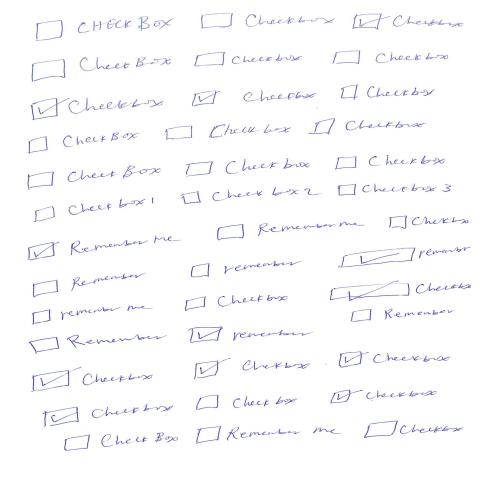Check Box: (28, 236, 180, 262), (31, 56, 174, 83), (35, 17, 175, 43), (27, 166, 163, 191), (34, 198, 156, 225), (32, 367, 154, 394), (32, 98, 166, 121), (44, 405, 176, 428), (217, 222, 365, 242), (32, 273, 149, 298), (28, 335, 167, 355), (196, 426, 342, 445), (28, 132, 139, 155), (181, 188, 323, 205), (185, 159, 311, 178), (33, 306, 152, 326), (194, 360, 309, 380), (201, 13, 336, 30), (192, 90, 317, 108), (64, 433, 180, 452), (166, 124, 291, 141), (191, 260, 302, 279), (189, 327, 313, 344), (314, 118, 428, 136), (338, 352, 451, 369), (365, 421, 466, 440), (353, 14, 464, 31), (194, 52, 304, 68), (335, 156, 446, 171), (332, 51, 450, 65), (185, 296, 288, 312), (196, 396, 298, 412), (330, 390, 438, 405), (338, 183, 453, 197), (350, 309, 455, 324), (341, 85, 436, 101), (389, 216, 470, 230)
